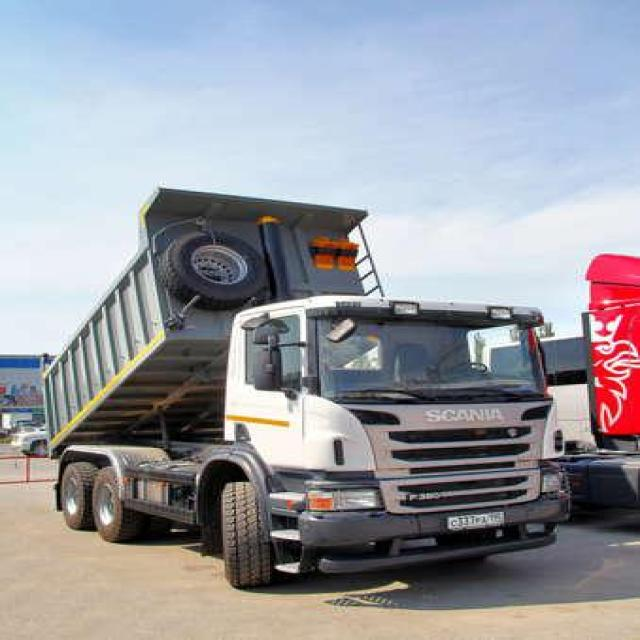Camion volquete: (36, 182, 583, 590)
camion: (11, 424, 50, 458)
